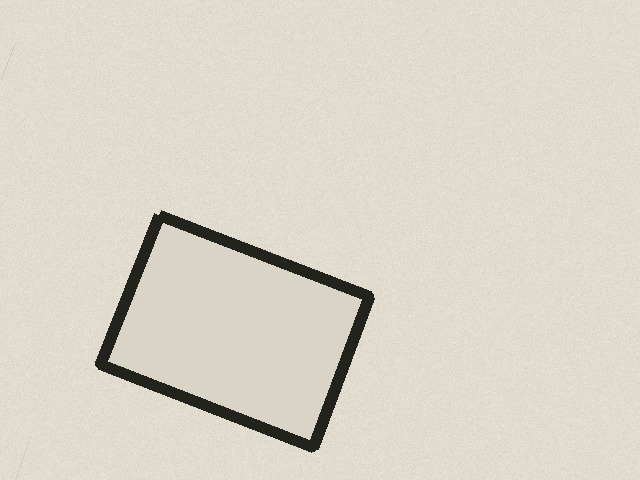parking_area: (100, 215, 369, 447)
